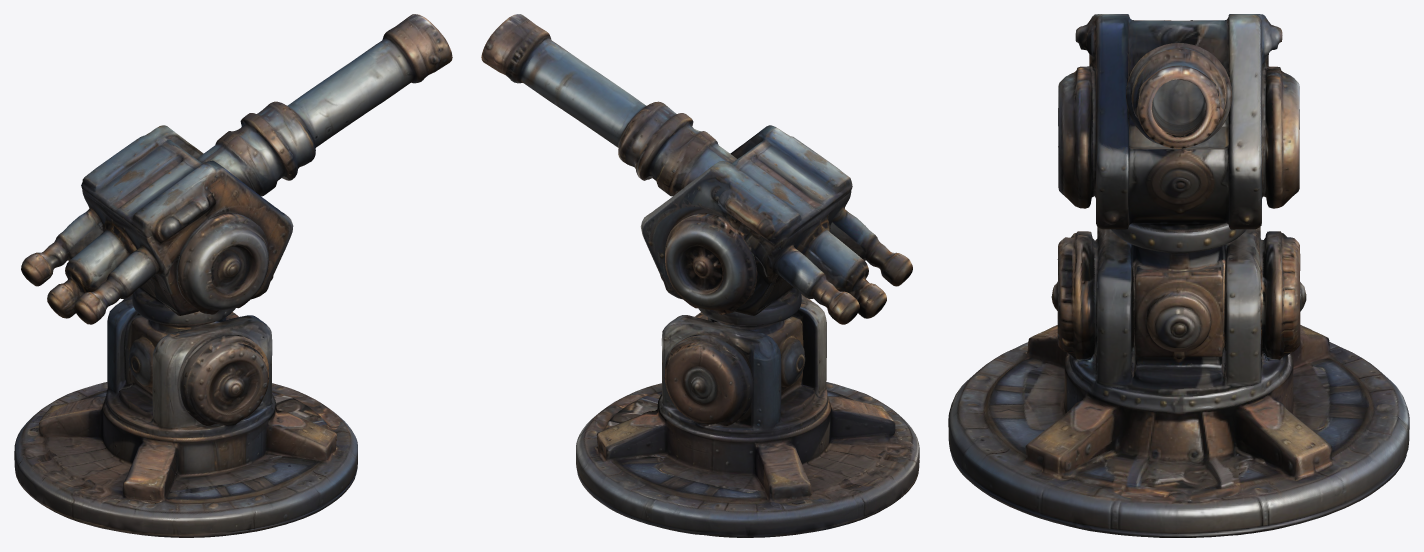
The model's file is mortar.glb.
3 views of the same model, side by side, from view 1: azimuth 30°, elevation 25°; view 2: azimuth 150°, elevation 25°; view 3: azimuth 270°, elevation 25° (orthographic). The views are drawn at different scales.
Visible parts, largest first — view 1: Mesh_0.001; view 2: Mesh_0.001; view 3: Mesh_0.001.
Boxes of the visible parts, <box> form: Mesh_0.001: <box>14,14,452,537</box>; Mesh_0.001: <box>481,14,919,537</box>; Mesh_0.001: <box>948,14,1409,537</box>.
Bounding box in the file's own units: 2 × 1.83 × 1.45.
1 material, 1 textured.
